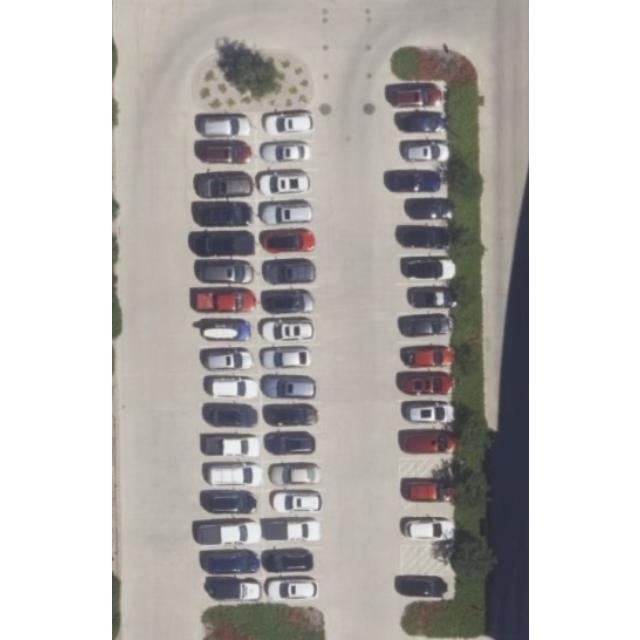Parked: (200, 546, 264, 578), (194, 258, 258, 288), (201, 431, 261, 461), (203, 462, 263, 492), (396, 254, 456, 284), (193, 288, 257, 316), (195, 229, 258, 257), (200, 373, 260, 402), (260, 316, 318, 346), (264, 460, 322, 490), (264, 548, 322, 578), (194, 200, 256, 228), (198, 316, 260, 344), (200, 403, 262, 431), (200, 518, 262, 546), (394, 284, 456, 312), (384, 80, 446, 108), (394, 224, 452, 253), (197, 142, 253, 172), (198, 346, 258, 374), (262, 372, 318, 402), (264, 490, 324, 518), (197, 112, 255, 140), (256, 112, 314, 140), (258, 258, 316, 286), (262, 431, 320, 459), (264, 519, 322, 547), (397, 400, 455, 428), (258, 200, 314, 228), (260, 288, 316, 316), (265, 579, 321, 607), (256, 142, 316, 168), (200, 579, 264, 603), (398, 518, 457, 544), (262, 404, 318, 431), (396, 342, 450, 370), (198, 173, 256, 199), (205, 490, 263, 516), (257, 172, 315, 198), (258, 230, 316, 256), (396, 372, 454, 398), (395, 197, 453, 223), (400, 429, 454, 456), (398, 314, 452, 341), (399, 478, 455, 504), (392, 140, 448, 166), (388, 169, 448, 193), (262, 346, 316, 372), (394, 111, 446, 137), (396, 576, 454, 596)
